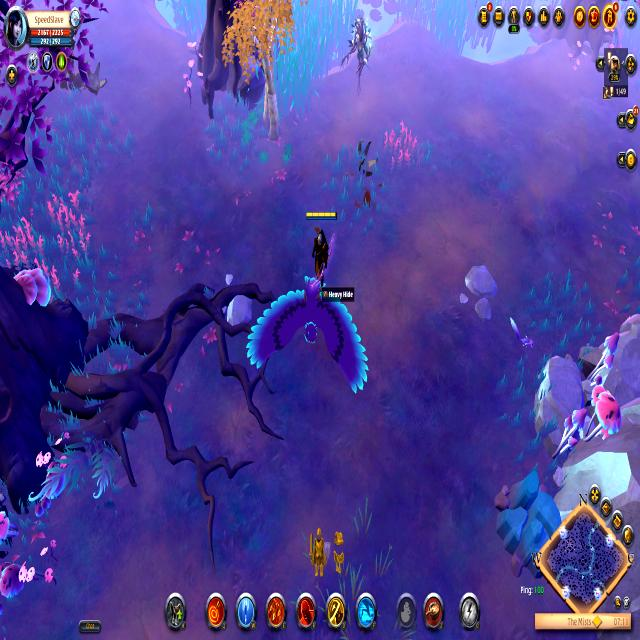mob: (244, 269, 369, 402)
ore: (346, 13, 374, 81)
red: (303, 205, 339, 286)
tree: (496, 465, 566, 574)
wisp caged: (218, 0, 294, 135)
